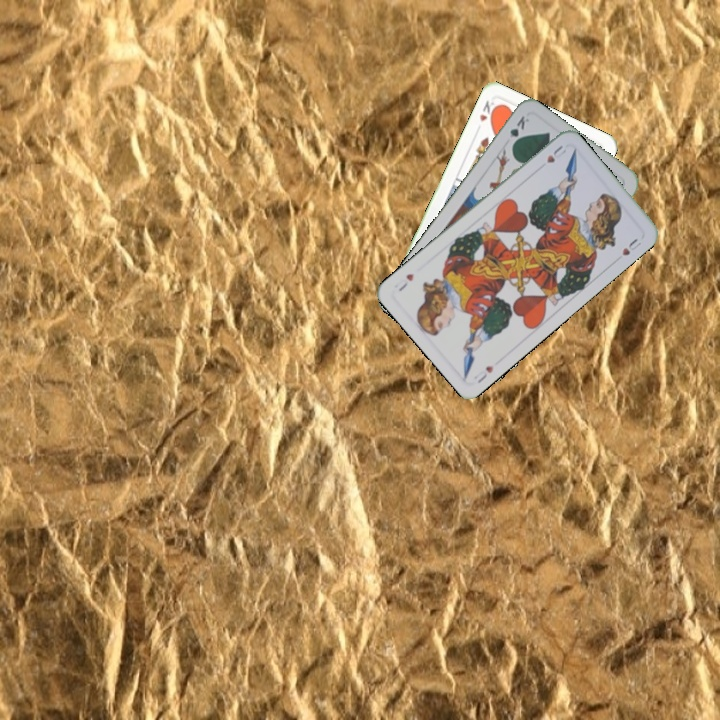GK: (505, 111, 532, 149)
HK: (475, 96, 497, 124)
HU: (543, 141, 569, 166), (473, 361, 496, 386)
